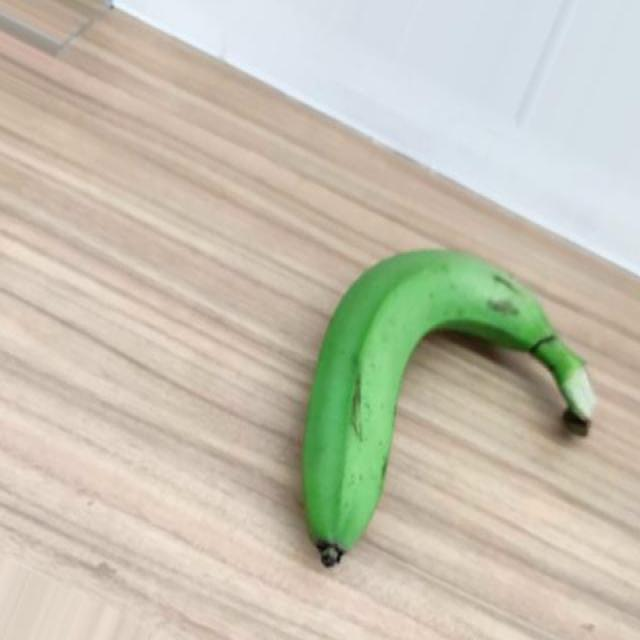Unripe: (301, 244, 597, 571)
